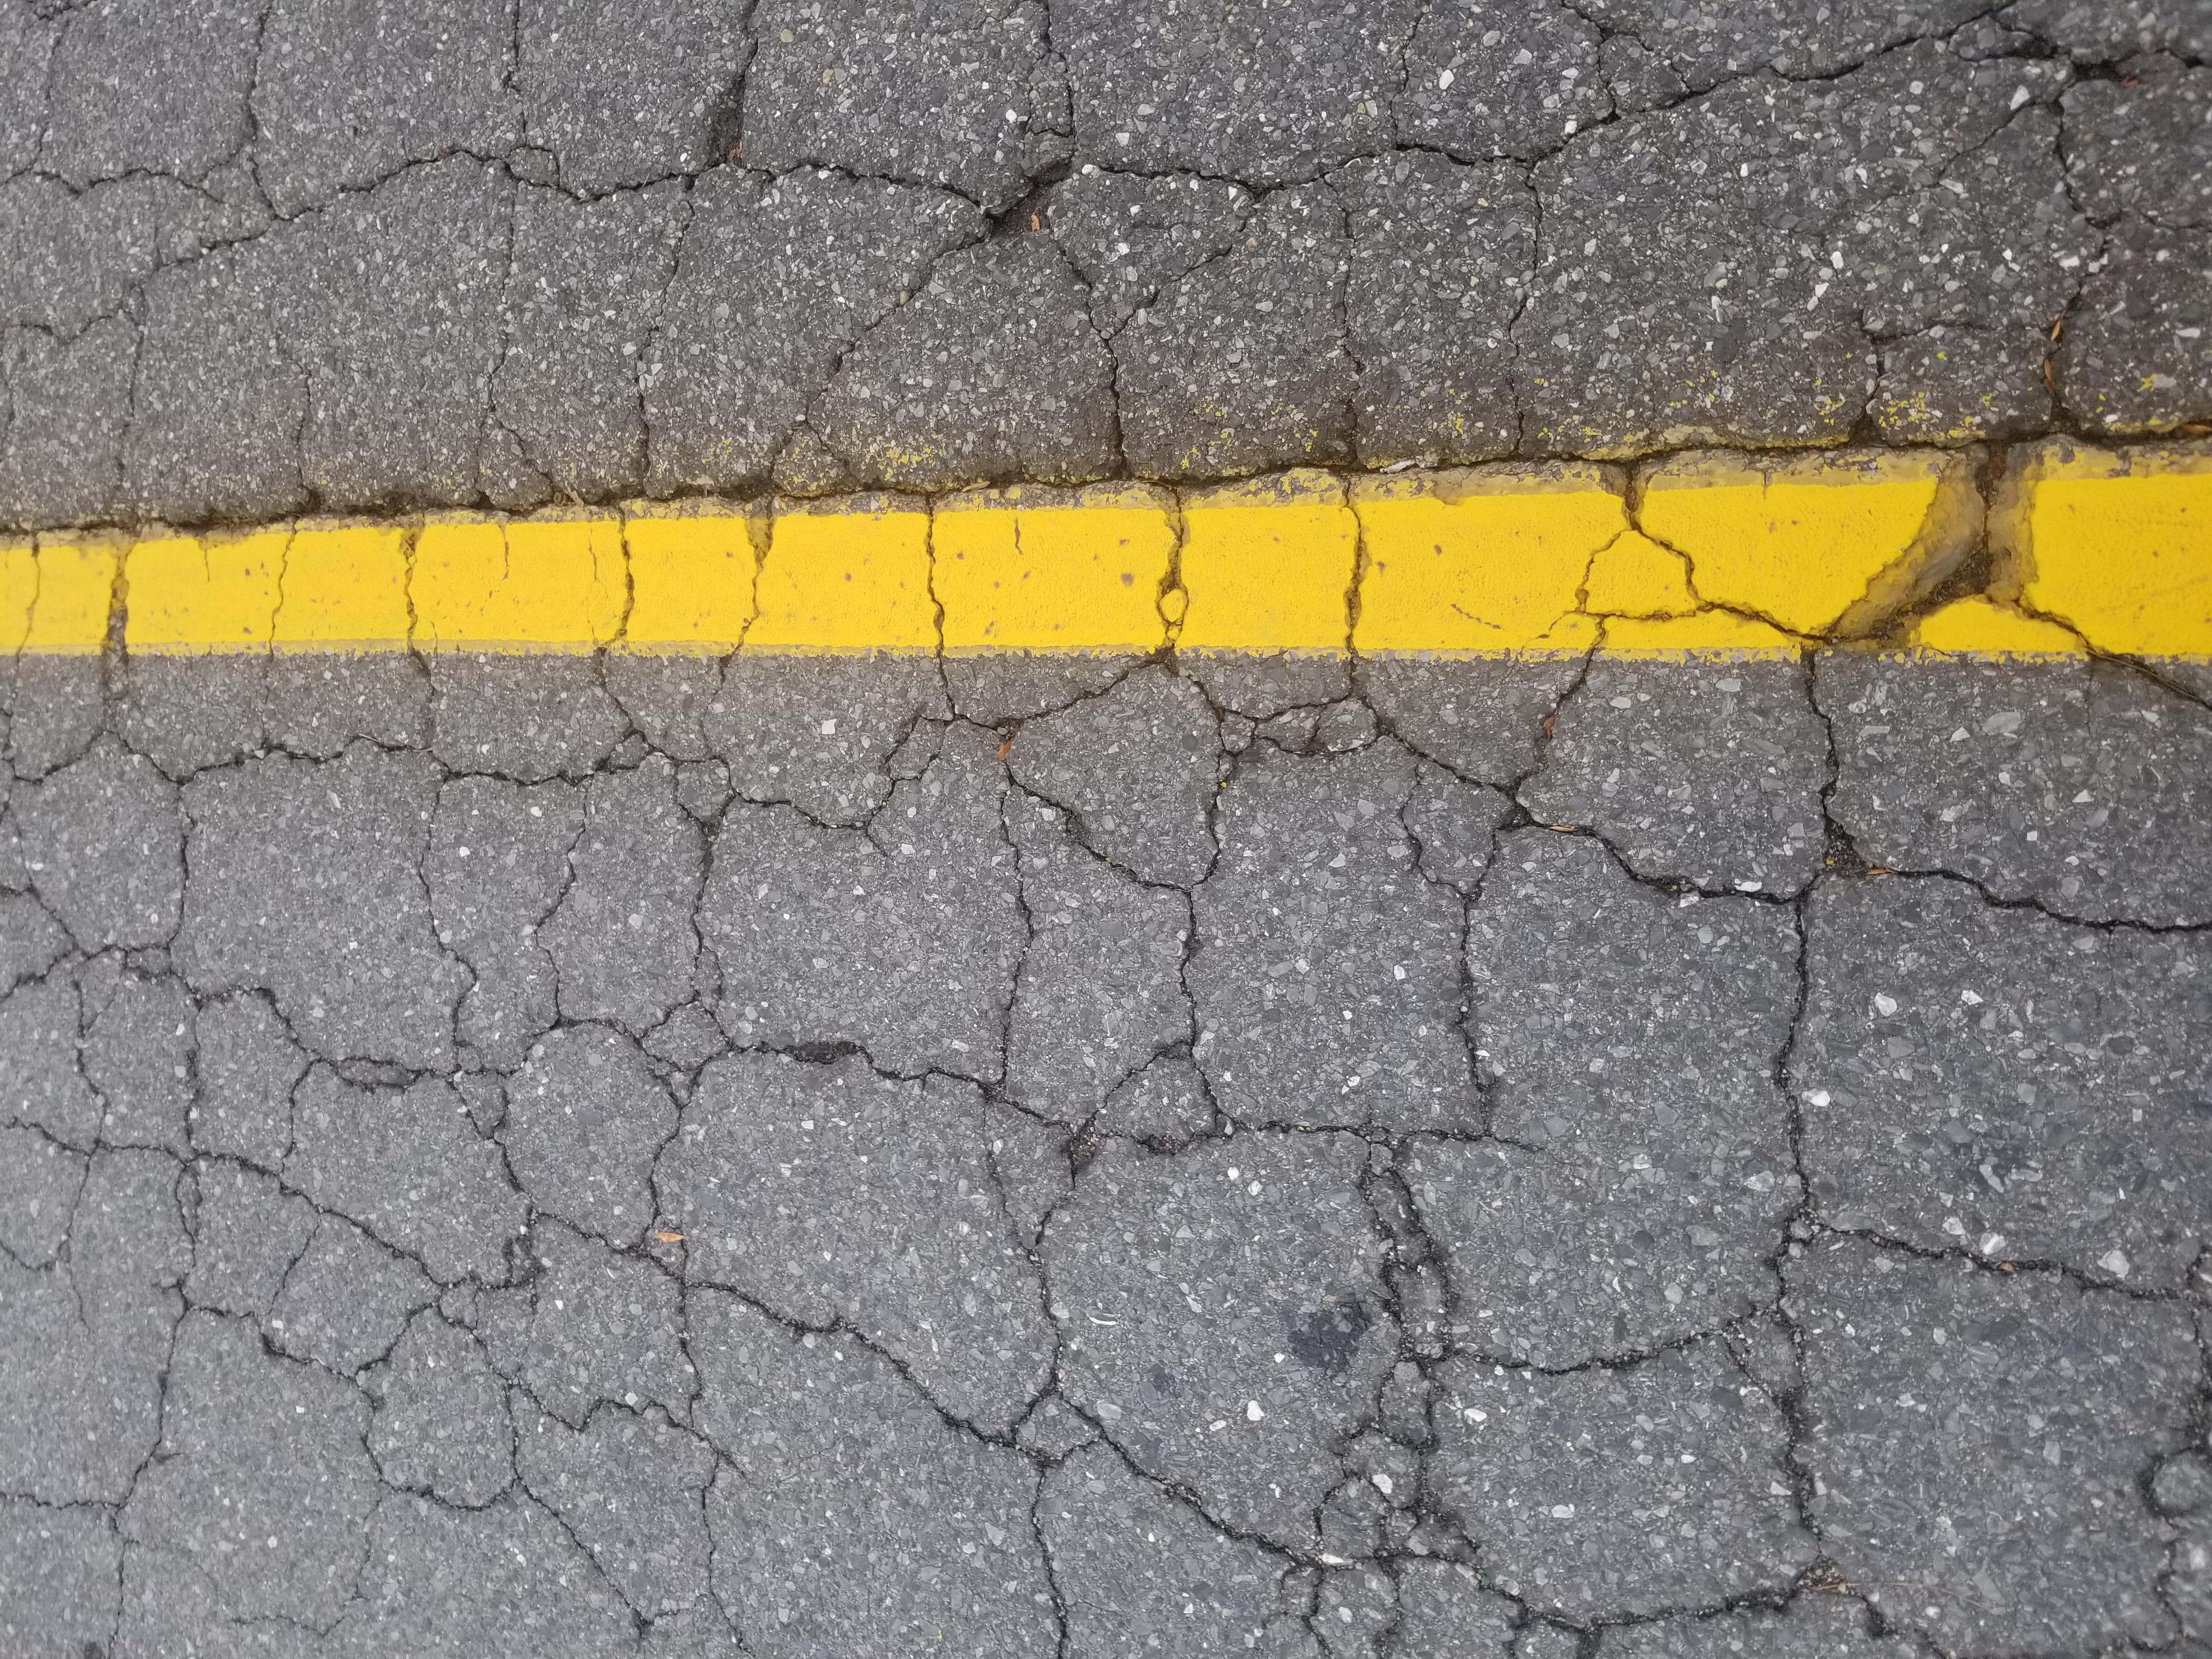alligator-crack: (0, 0, 2212, 1659), (221, 84, 1660, 1507), (507, 643, 1905, 1581), (82, 247, 1285, 1337), (946, 239, 1928, 1066)
